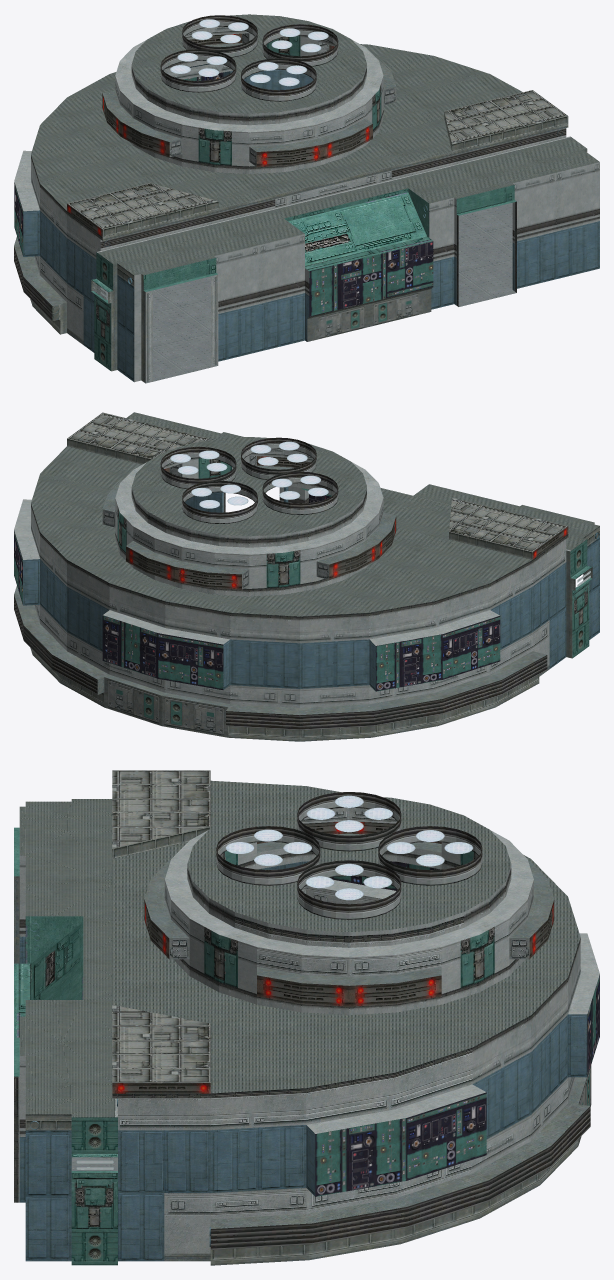
File: ply_nboo_hospital_s01_r3_mainroom_mesh_r3.fbx
3 views of the same model, one above another, from view 1: azimuth 30°, elevation 25°; view 2: azimuth 150°, elevation 25°; view 3: azimuth 270°, elevation 25° (orthographic). The views are drawn at different scales.
Visible parts, largest first — view 1: mesh_node; view 2: mesh_node; view 3: mesh_node.
Part boxes in pixels (x1,y1,x2,y2): mesh_node: (14, 14, 599, 383); mesh_node: (14, 412, 599, 741); mesh_node: (14, 770, 599, 1265).
Size of the model in its own units: 17.01 by 6.18 by 12.67.
